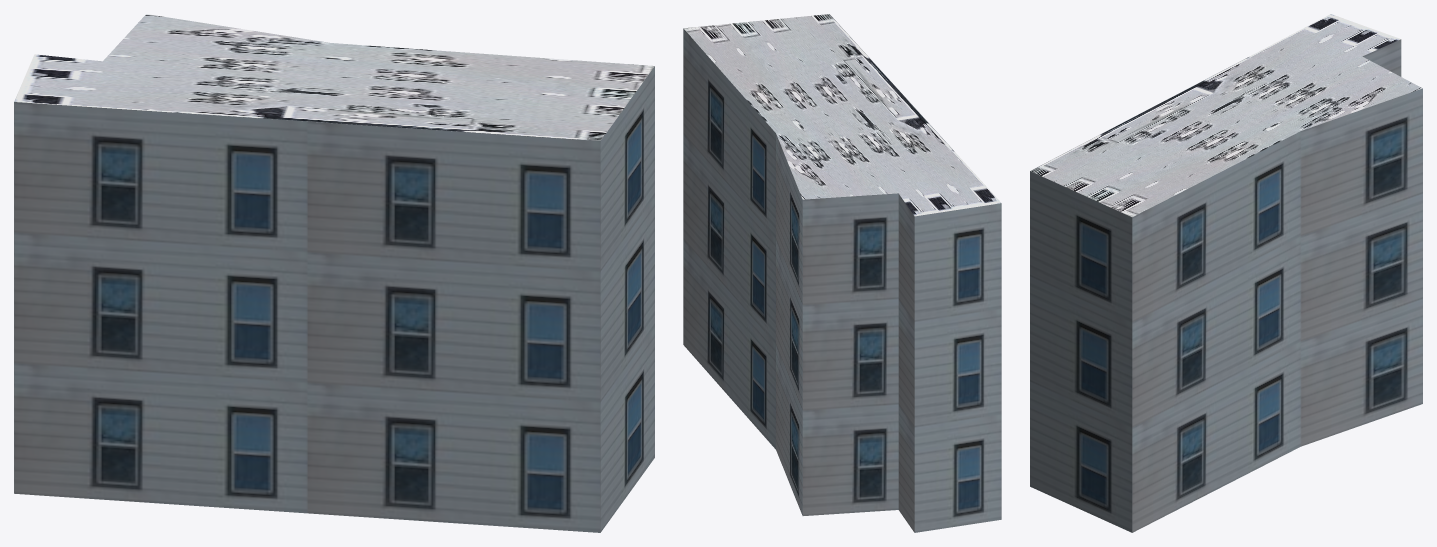
The model's file is ResTex__1483.fbx.
3 renders of one model, left to right at view 1: azimuth 30°, elevation 25°; view 2: azimuth 150°, elevation 25°; view 3: azimuth 270°, elevation 25°, orthographic. The views are drawn at different scales.
Visible parts, largest first — view 1: CityEngineMaterial_18_m, CityEngineMaterial_4_m; view 2: CityEngineMaterial_18_m, CityEngineMaterial_4_m; view 3: CityEngineMaterial_18_m, CityEngineMaterial_4_m.
Boxes of the visible parts, x1,y1,x2,y2 form: CityEngineMaterial_18_m: [14, 66, 654, 532]; CityEngineMaterial_4_m: [14, 14, 654, 140]; CityEngineMaterial_18_m: [683, 28, 1001, 532]; CityEngineMaterial_4_m: [683, 14, 1001, 216]; CityEngineMaterial_18_m: [1030, 39, 1422, 532]; CityEngineMaterial_4_m: [1030, 14, 1422, 217].
Size of the model in its own units: 12.44 by 9 by 10.15.
Materials: 2 (2 with a texture image).
